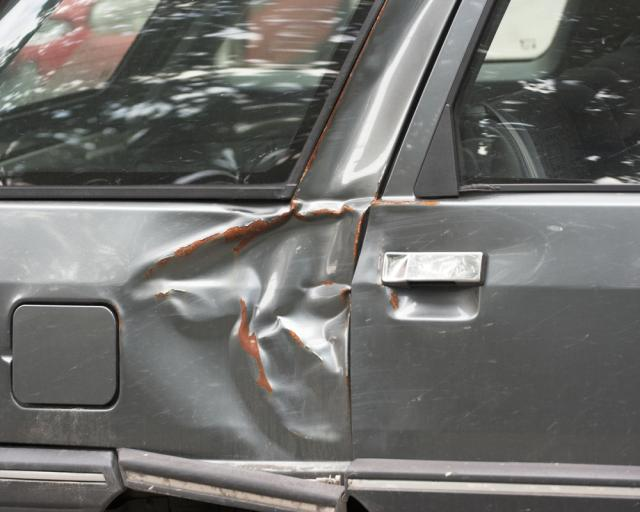dent: (122, 204, 362, 465)
